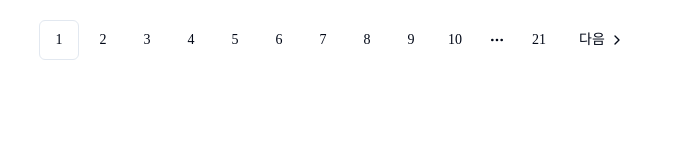
Test case: CustomPagination 컴포넌트 테스트 › 현재 페이지 번호가 MAXIMUM_NUMBER_OF_PAGES보다 큰 경우만 이전 버튼이 활성화되는지 확인
The image size is (694, 160).
Expected: the link "1" is shown, [39,20,79,60]
Expected: the link "2" is shown, [100,32,107,47]
What coordinates should you click on to do the following:
click the link with aria-label "Go to next page"
I would click on:
 (602, 40)
Its box is [579,32,625,48].
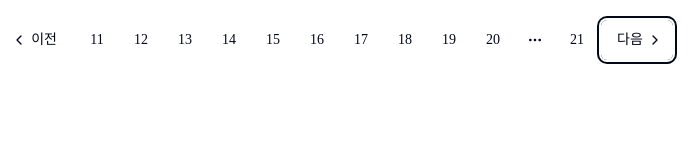
Expected: the link "11" is shown, [90,32,104,47]
Expected: the link "12" is shown, [134,32,148,47]
Expected: the link "13" is shown, [178,32,192,47]
